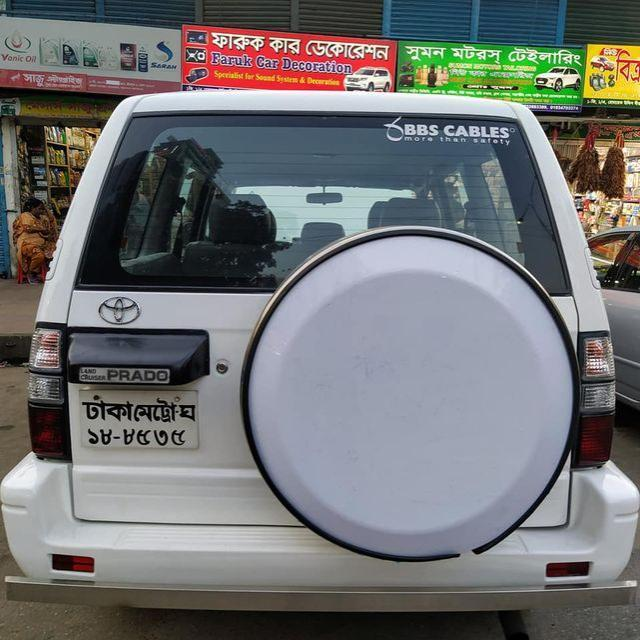numberplate: (75, 387, 199, 451)
